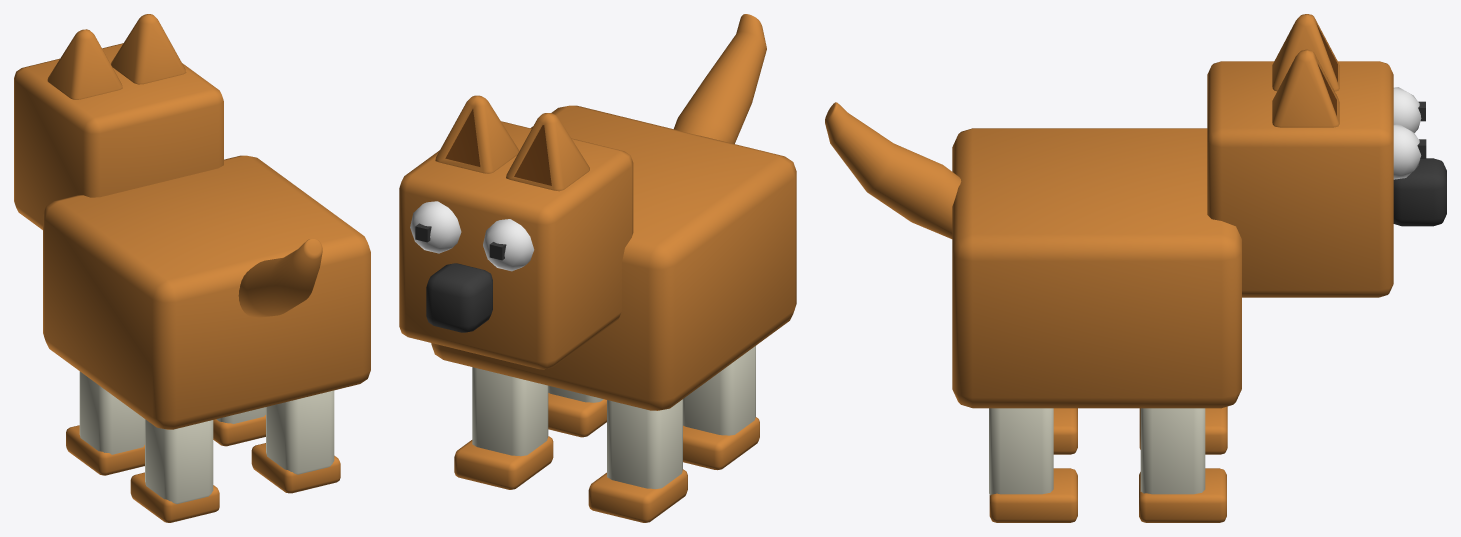
The model's file is Dog.glb.
3 renders of one model, left to right at view 1: azimuth 30°, elevation 25°; view 2: azimuth 150°, elevation 25°; view 3: azimuth 270°, elevation 25°, orthographic. The views are drawn at different scales.
Visible parts, largest first — view 1: Cube; view 2: Cube; view 3: Cube.
Boxes of the visible parts, left/top/right/bottom form: Cube: left=14, top=14, right=370, bottom=522; Cube: left=399, top=14, right=796, bottom=522; Cube: left=825, top=14, right=1446, bottom=522.
Size of the model in its own units: 1 by 1.69 by 2.15.
